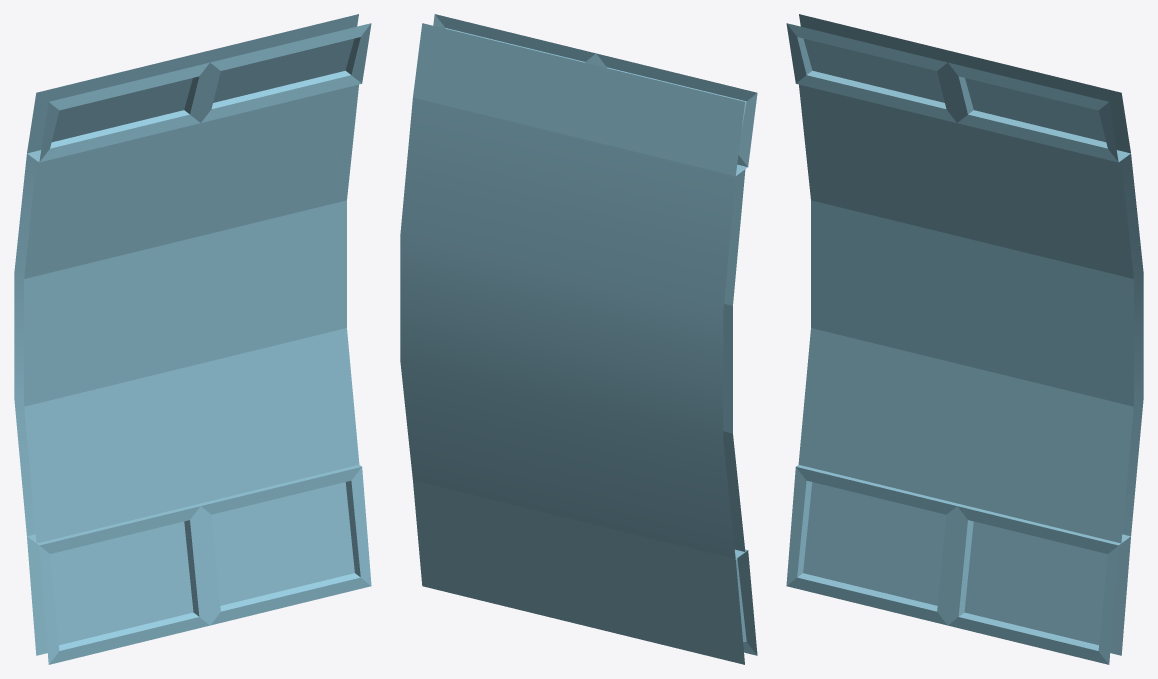
The model's file is sidewallGlassFullAsst.FBX.
The picture shows the model from 3 angles, left to right: view 1: azimuth 30°, elevation 25°; view 2: azimuth 150°, elevation 25°; view 3: azimuth 330°, elevation 25°; orthographic projection.
Visible parts, largest first — view 1: sidewallGlassPanelFull, sidewallGlassFull; view 2: sidewallGlassPanelFull, sidewallGlassFull; view 3: sidewallGlassPanelFull, sidewallGlassFull.
Part boxes in pixels (x1,y1,x2,y2): sidewallGlassPanelFull: (14, 84, 359, 543); sidewallGlassFull: (27, 14, 371, 664); sidewallGlassPanelFull: (400, 97, 745, 558); sidewallGlassFull: (413, 14, 757, 664); sidewallGlassPanelFull: (798, 84, 1143, 543); sidewallGlassFull: (786, 14, 1130, 664).
Size of the model in its own units: 1.5 by 2.5 by 0.2757.
